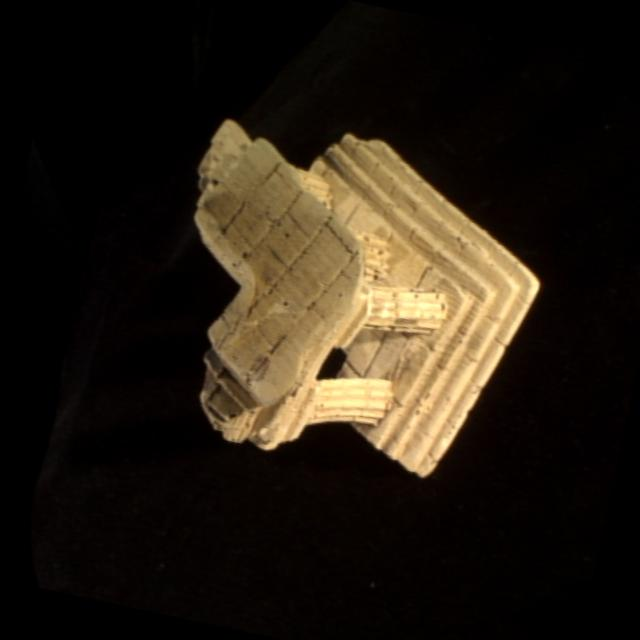Instance-Segmentation: (195, 119, 537, 473)
